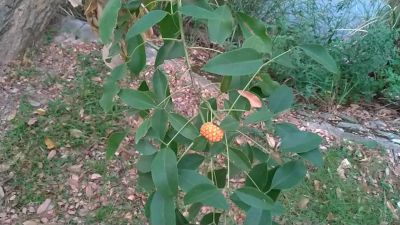eggs: (197, 120, 223, 147)
